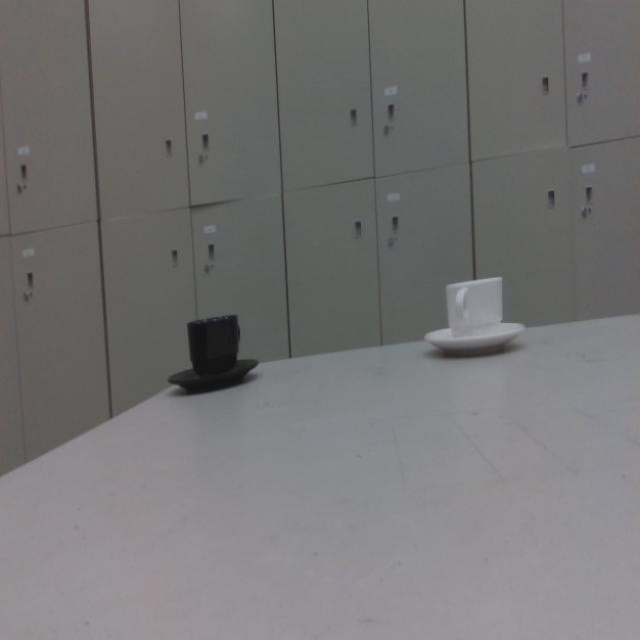black: (166, 308, 262, 399)
white: (416, 246, 526, 364)
